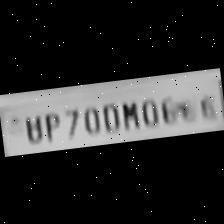0: (78, 102, 104, 137), (137, 94, 161, 129), (97, 99, 120, 134)
7: (59, 103, 83, 139)
M: (116, 96, 142, 132)
P: (40, 108, 62, 143)
U: (18, 110, 46, 146)
